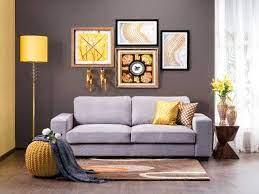chair: (24, 136, 68, 178)
clock: (129, 61, 147, 77)
light: (16, 33, 50, 143), (84, 64, 98, 94), (99, 65, 110, 93)
sofa: (48, 96, 214, 158)
table: (215, 121, 242, 159)
